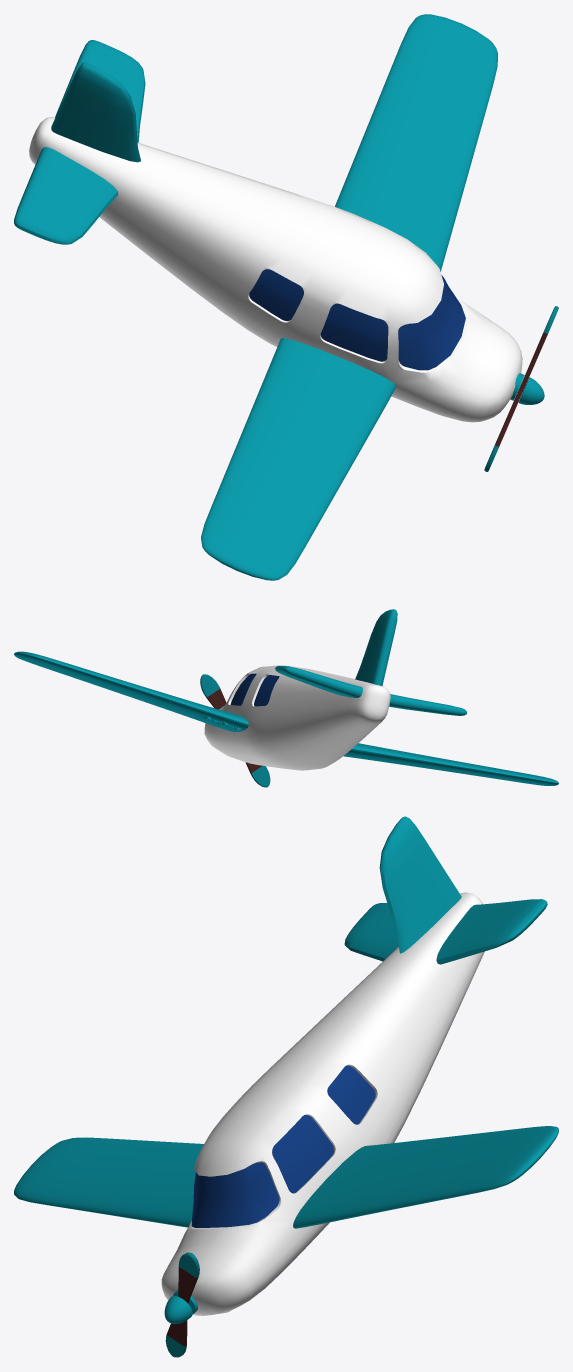
The model's file is small_airplane.fbx.
3 renders of one model, top to bottom at view 1: azimuth 30°, elevation 25°; view 2: azimuth 150°, elevation 25°; view 3: azimuth 270°, elevation 25°, orthographic. The views are drawn at different scales.
Visible parts, largest first — view 1: Cube.790; view 2: Cube.790; view 3: Cube.790.
Part boxes in pixels (x1,y1,x2,y2): Cube.790: (14, 14, 558, 580); Cube.790: (14, 609, 558, 787); Cube.790: (14, 816, 558, 1357).
Size of the model in its own units: 255 by 176 by 218.
Materials: 1 (1 with a texture image).
